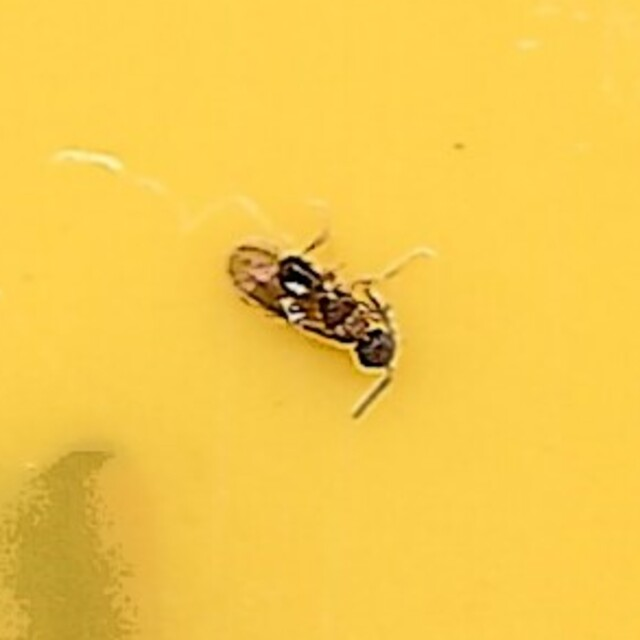Hymenoptera: (218, 217, 422, 423)
